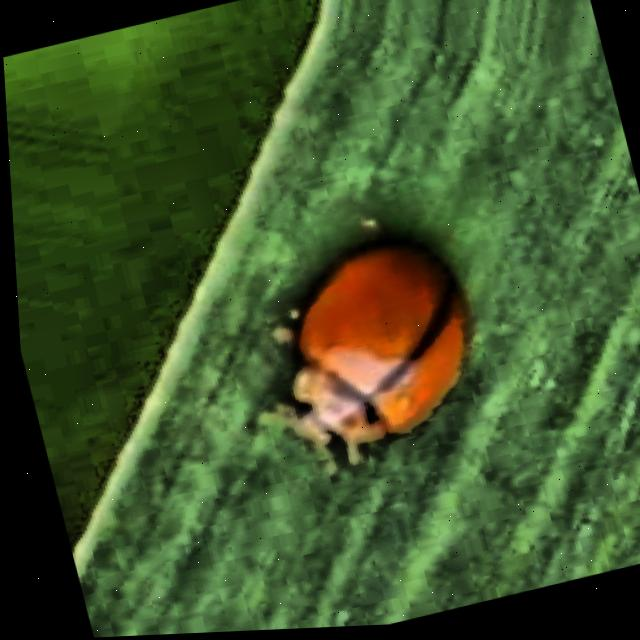Ladybug: (172, 180, 540, 507)
